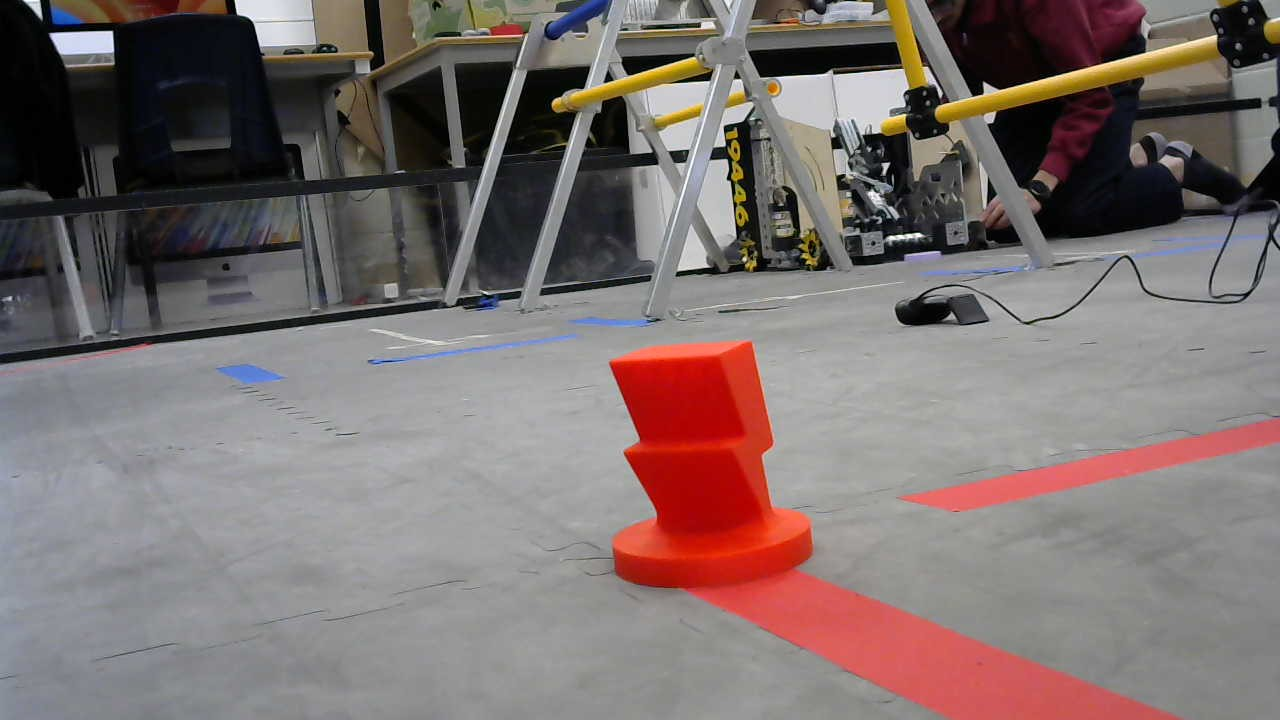redobject: (610, 335, 812, 589)
